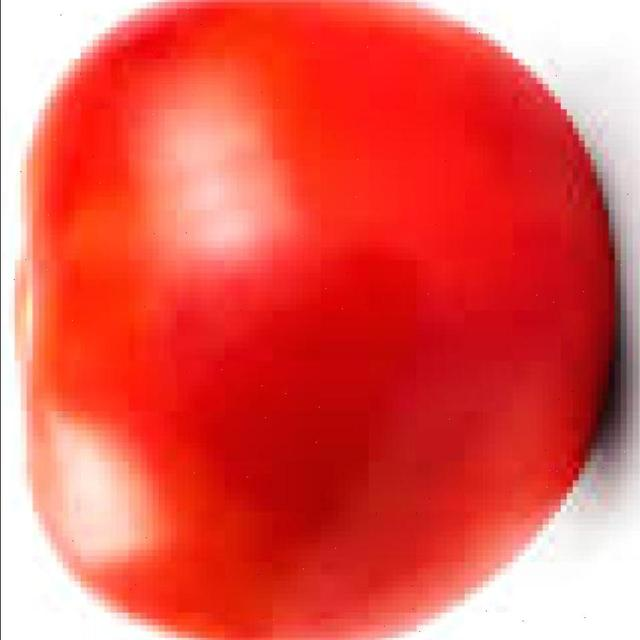Healthy Fruit: (8, 0, 408, 427)
